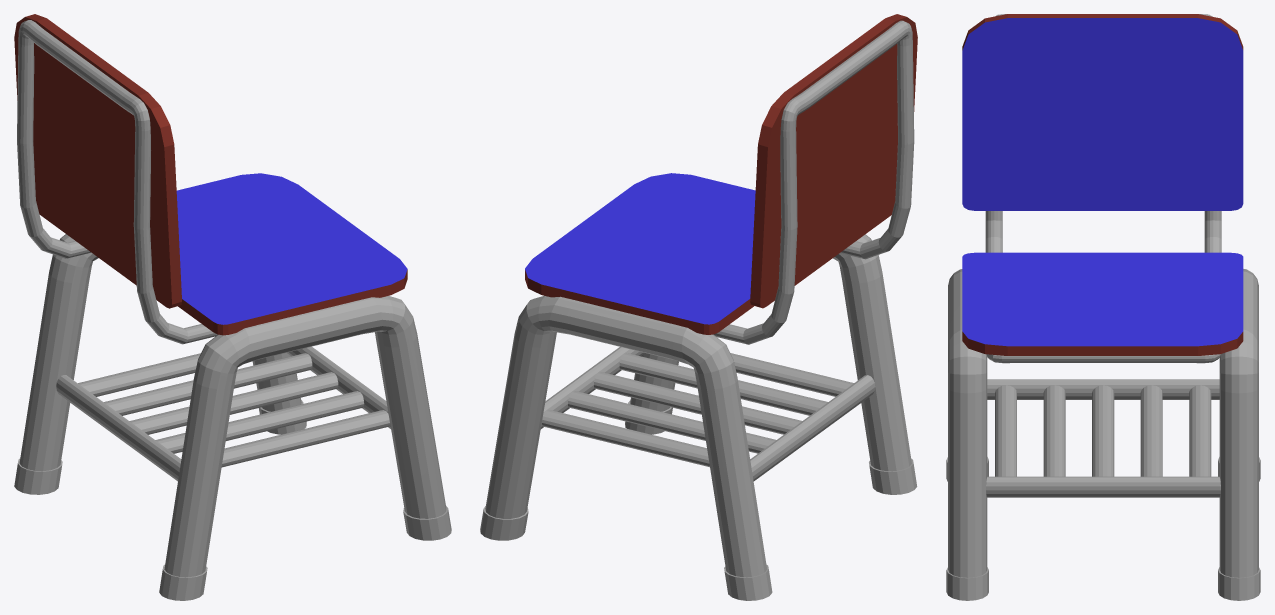
The model's file is Silla.fbx.
The picture shows the model from 3 angles, left to right: view 1: azimuth 30°, elevation 25°; view 2: azimuth 150°, elevation 25°; view 3: azimuth 270°, elevation 25°; orthographic projection. The views are drawn at different scales.
Parts seen in each view (by area): view 1: Cylinder.003; view 2: Cylinder.003; view 3: Cylinder.003.
Boxes of the visible parts, left/top/right/bottom form: Cylinder.003: left=14, top=14, right=451, bottom=600; Cylinder.003: left=480, top=14, right=917, bottom=600; Cylinder.003: left=946, top=14, right=1260, bottom=600.
Bounding box in the file's own units: 98.25 × 152 × 95.16.
